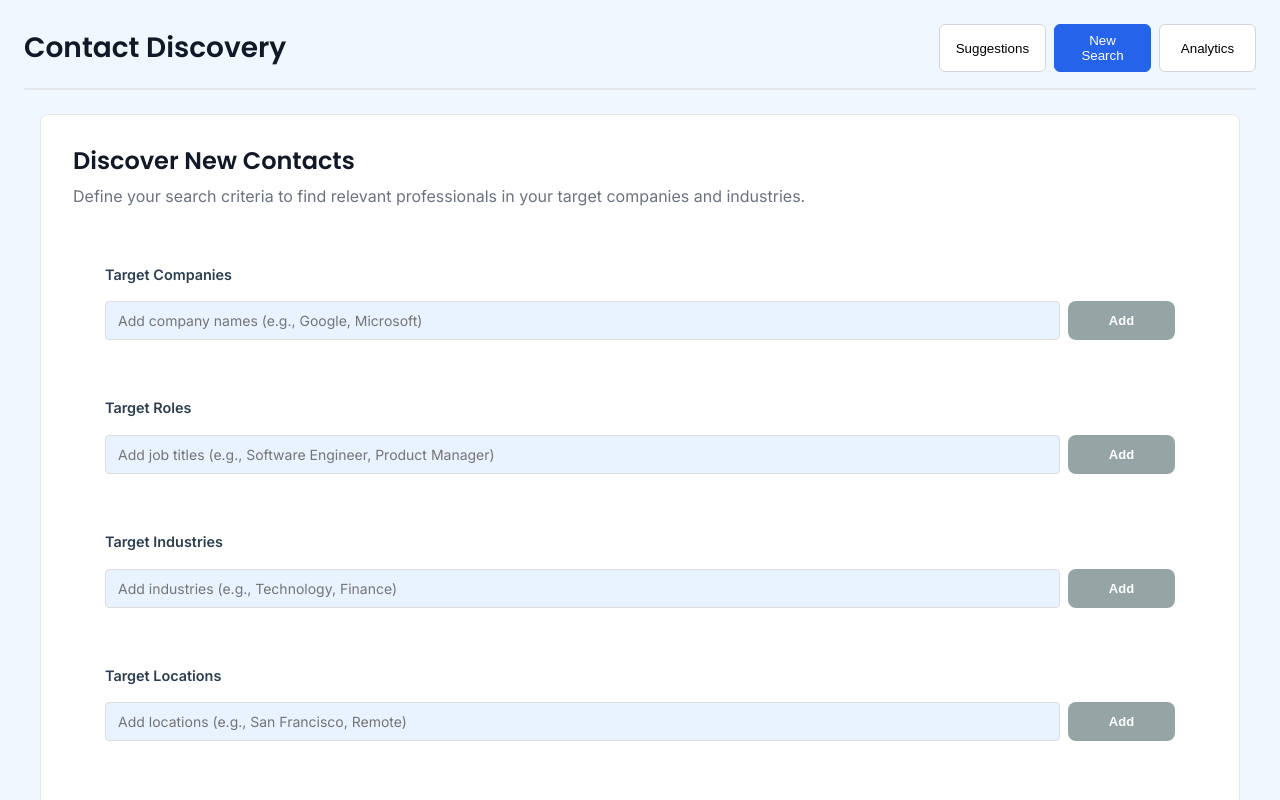
Test: ContactDiscovery › renders filter controls in suggestions view
Click the button "Suggestions" at (992, 48), box 939,24 -> 1046,72
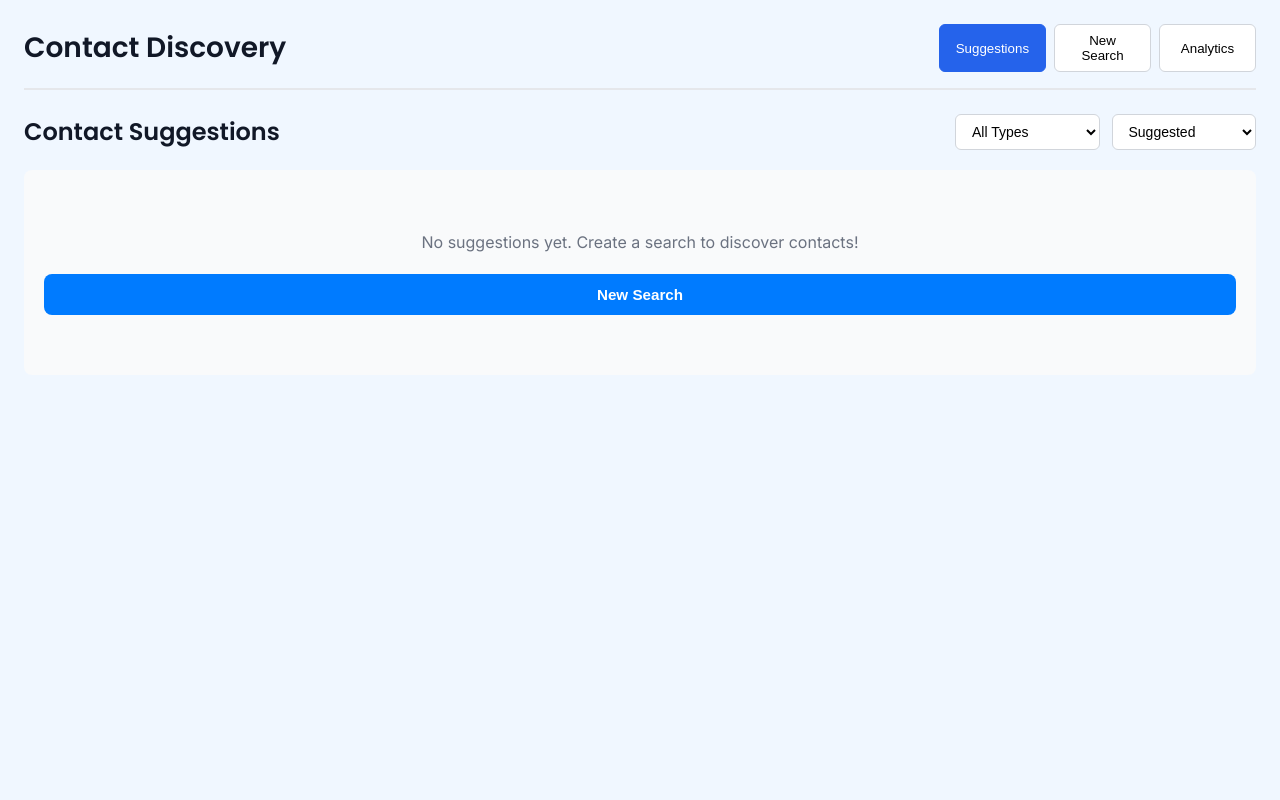
Expected: the 1st dropdown is shown, 955,114 -> 1100,150
